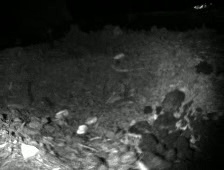corn: (19, 141, 41, 160), (53, 107, 71, 120), (75, 122, 90, 135), (84, 114, 98, 126), (112, 51, 125, 61)
